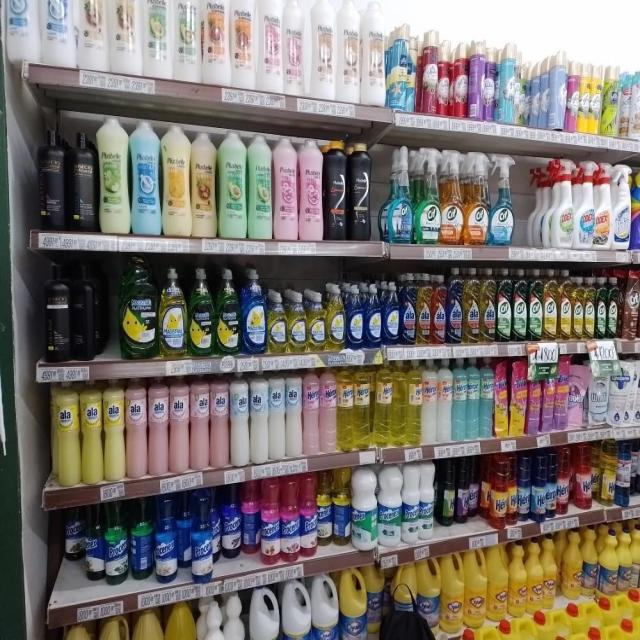ala_conc_amarillo: (463, 267, 480, 344), (480, 266, 496, 344), (417, 273, 431, 345)
ala_conc_azul: (447, 266, 462, 345), (401, 273, 416, 346)
ala_conc_rojo: (432, 273, 446, 345)
ala_crem_amarillo: (52, 381, 80, 486), (81, 380, 103, 484), (104, 378, 125, 482)
ala_crem_blanco: (3, 0, 39, 63), (230, 371, 249, 467), (250, 372, 268, 464), (269, 372, 285, 461), (286, 370, 302, 459)
ala_crem_rosado: (126, 376, 147, 479), (148, 376, 169, 476), (169, 375, 190, 474), (190, 375, 210, 471), (210, 374, 229, 468)
cif_conc_bot_amarilla: (441, 153, 464, 246), (543, 268, 558, 340), (558, 269, 572, 340), (572, 275, 583, 340), (584, 276, 595, 340)
cif_conc_botella_verde: (497, 267, 512, 342), (528, 268, 542, 341), (513, 268, 527, 341), (607, 275, 619, 339), (596, 276, 606, 338)
drive: (510, 357, 526, 437), (494, 358, 508, 438)
heroe: (374, 360, 392, 448), (354, 363, 372, 450), (319, 366, 337, 453), (337, 364, 354, 452), (303, 367, 319, 455), (407, 359, 422, 446), (422, 359, 437, 444), (438, 358, 452, 443), (452, 358, 466, 442), (480, 356, 493, 439), (468, 356, 480, 439)
magistral_con_amarillo: (159, 266, 187, 358), (267, 291, 287, 355), (327, 284, 345, 351), (288, 291, 307, 354), (308, 291, 326, 352)
magistral_con_azul: (242, 267, 266, 355), (346, 283, 364, 350), (364, 283, 382, 348), (383, 279, 400, 346)
